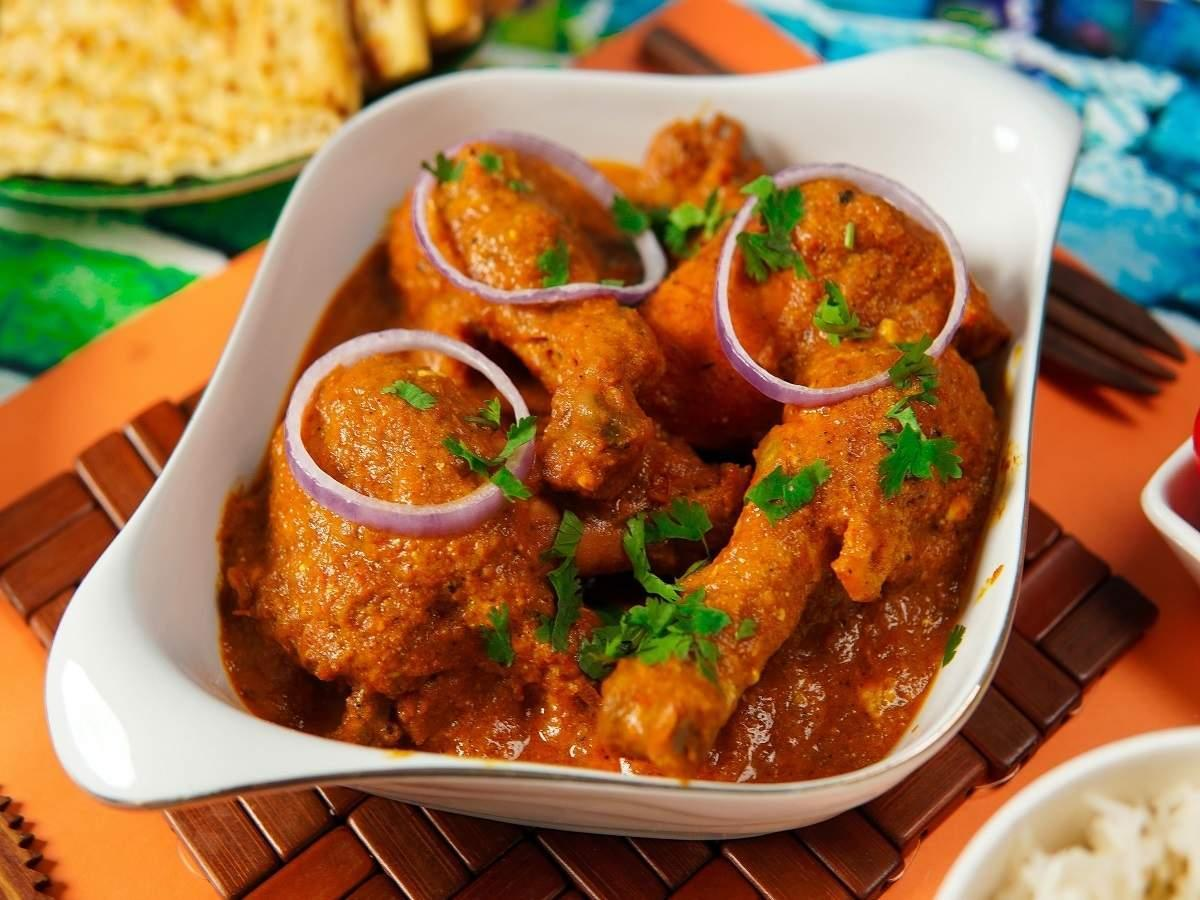chicken: (278, 136, 932, 747)
